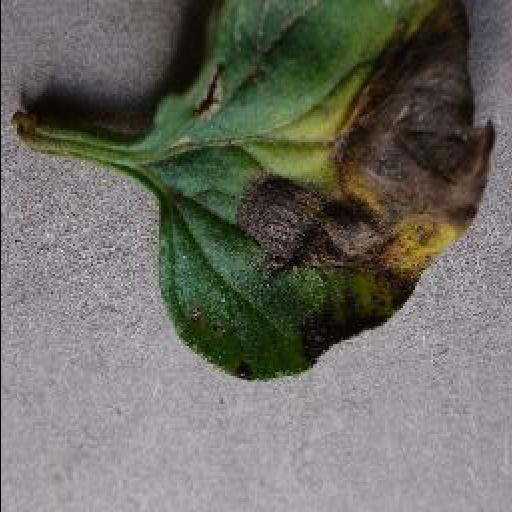Early Blight: (150, 6, 494, 382)
